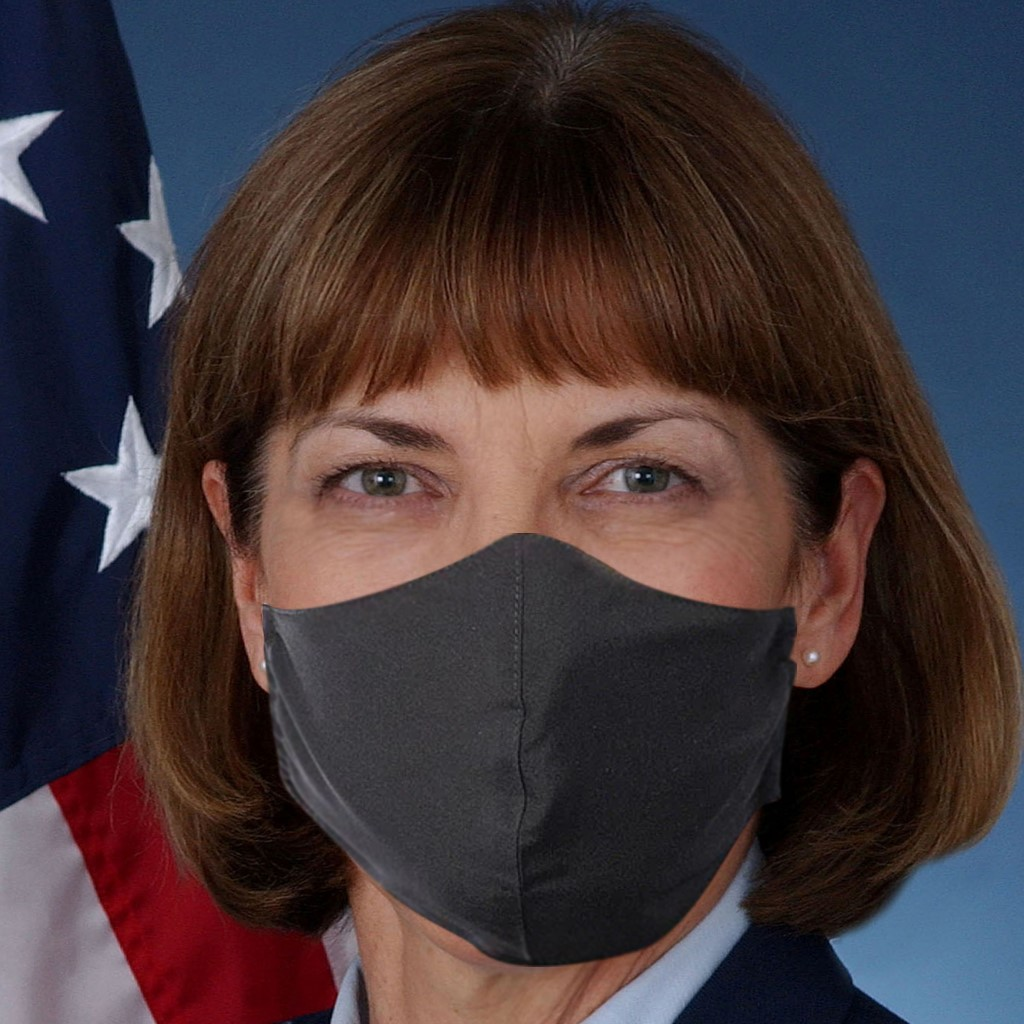con_mascara: (198, 211, 880, 942)
